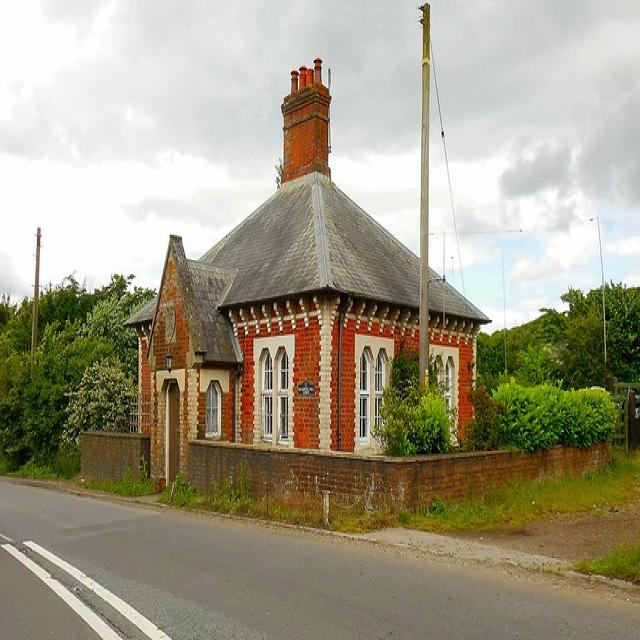Normal_building: (118, 173, 492, 511)
